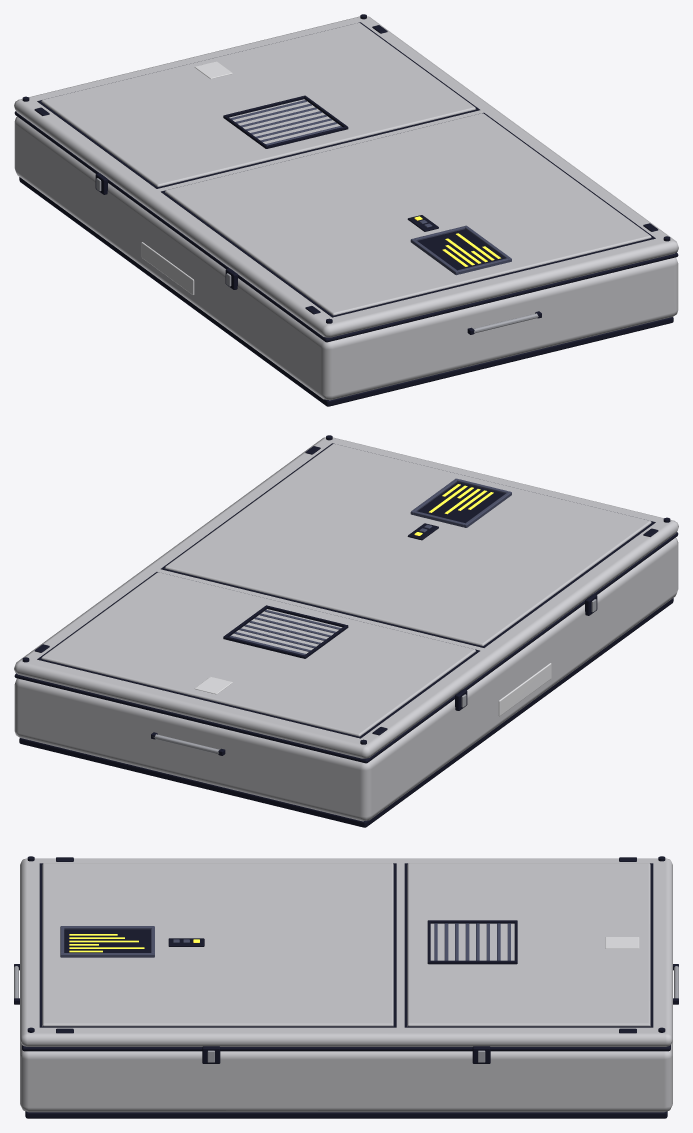
Rendered from roof.box.w2.d3.v1.glb.
3 renders of one model, top to bottom at view 1: azimuth 30°, elevation 25°; view 2: azimuth 150°, elevation 25°; view 3: azimuth 270°, elevation 25°, orthographic. The views are drawn at different scales.
Visible parts, largest first — view 1: roof.box.w2.d3.v1; view 2: roof.box.w2.d3.v1; view 3: roof.box.w2.d3.v1.
Boxes of the visible parts, bbox=[...] form: roof.box.w2.d3.v1: bbox=[14, 14, 678, 406]; roof.box.w2.d3.v1: bbox=[14, 435, 678, 827]; roof.box.w2.d3.v1: bbox=[14, 856, 678, 1118].
Bounding box in the file's own units: 1.96 × 0.448 × 2.95.
